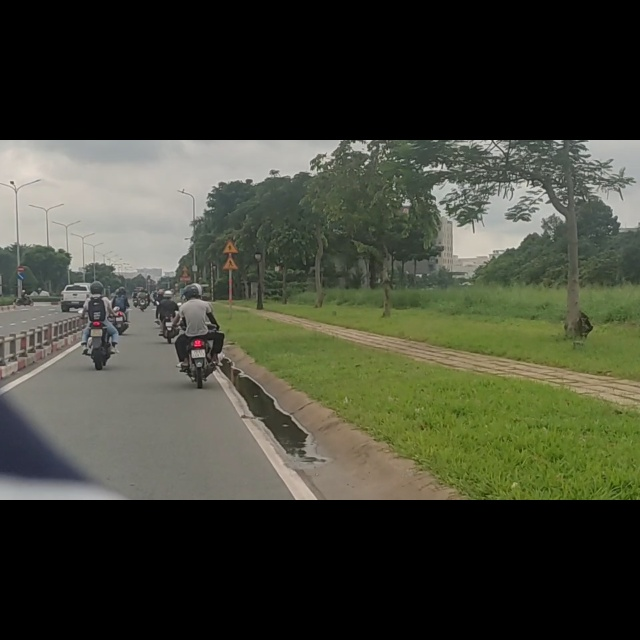bien_nguy_hiem: (221, 206, 239, 231), (223, 177, 239, 203), (17, 236, 25, 249), (17, 223, 25, 235)
